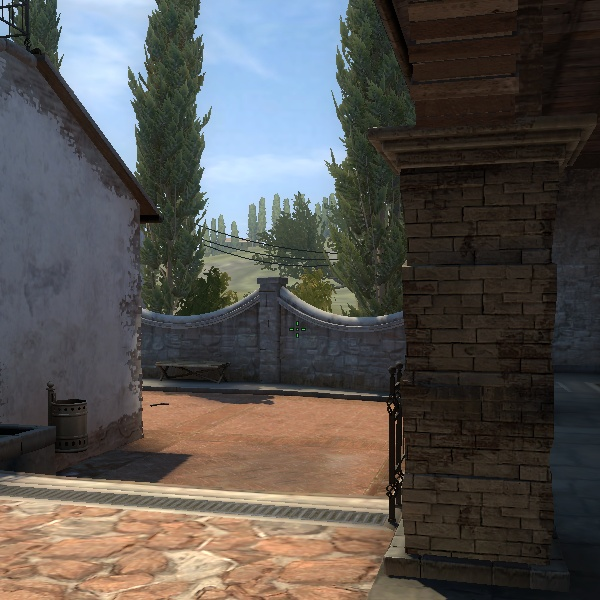t_body: (380, 463, 407, 533)
